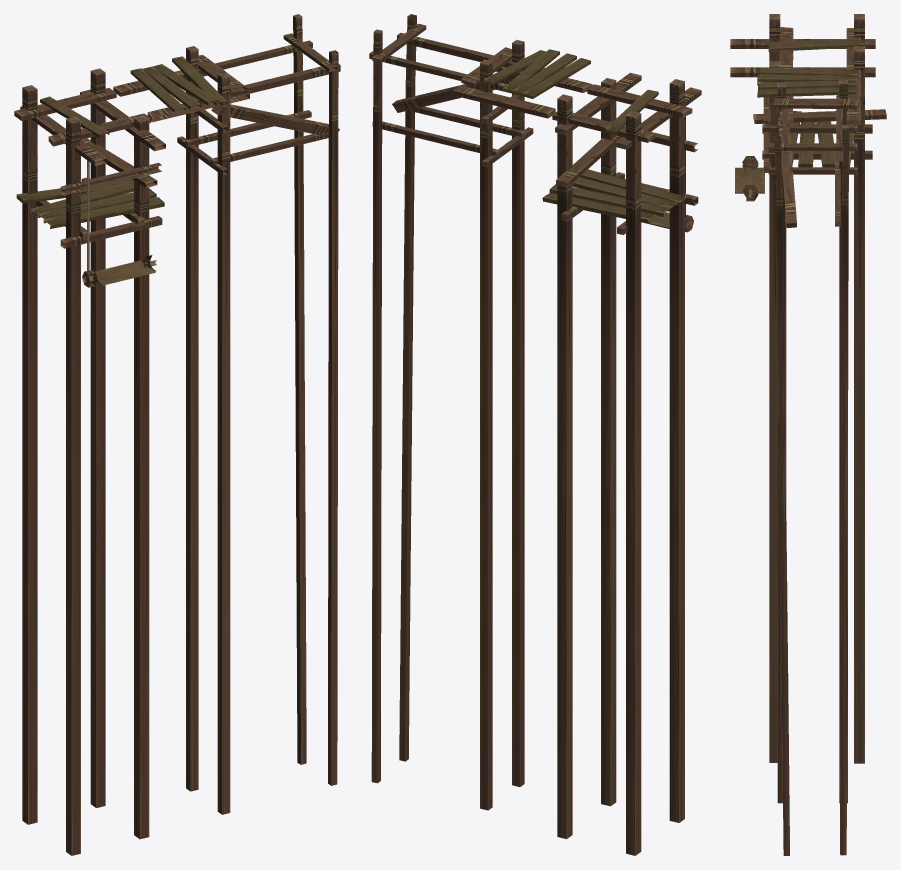
The model's file is bfcs_wujian_04.FBX.
3 renders of one model, left to right at view 1: azimuth 30°, elevation 25°; view 2: azimuth 150°, elevation 25°; view 3: azimuth 270°, elevation 25°, orthographic. The views are drawn at different scales.
Visible parts, largest first — view 1: bfcs_wujian_04; view 2: bfcs_wujian_04; view 3: bfcs_wujian_04.
Boxes of the visible parts, x1,y1,x2,y2 form: bfcs_wujian_04: (14,14,340,855); bfcs_wujian_04: (369,14,701,855); bfcs_wujian_04: (730,14,886,855).
Bounding box in the file's own units: 487 × 1197 × 233.
